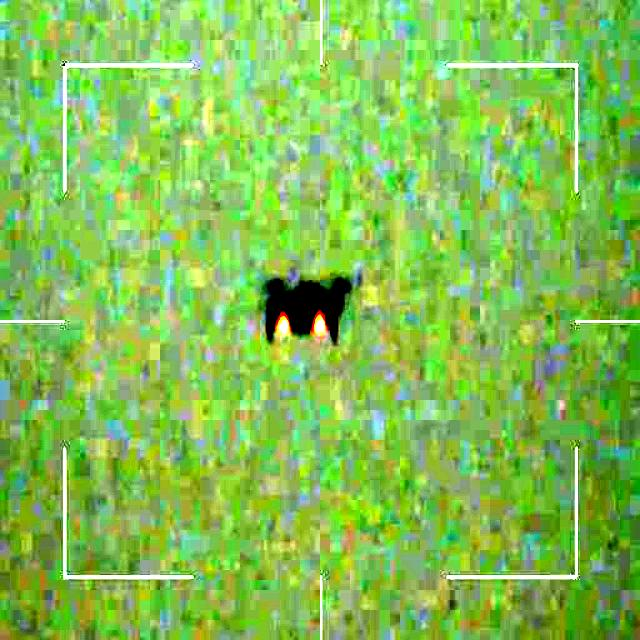bird: (256, 275, 354, 345)
